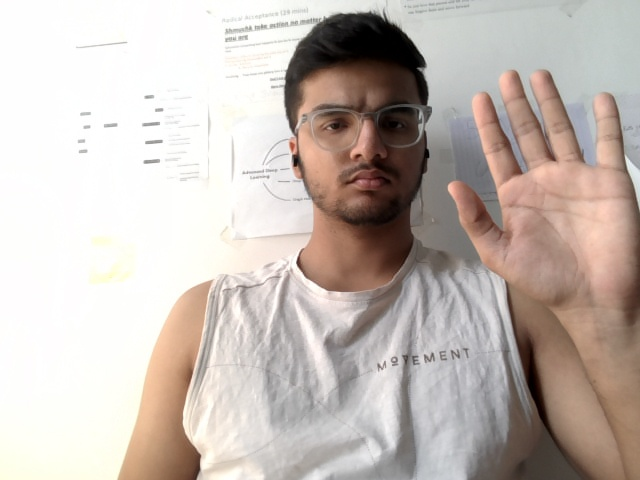Hello: (445, 52, 640, 311)
